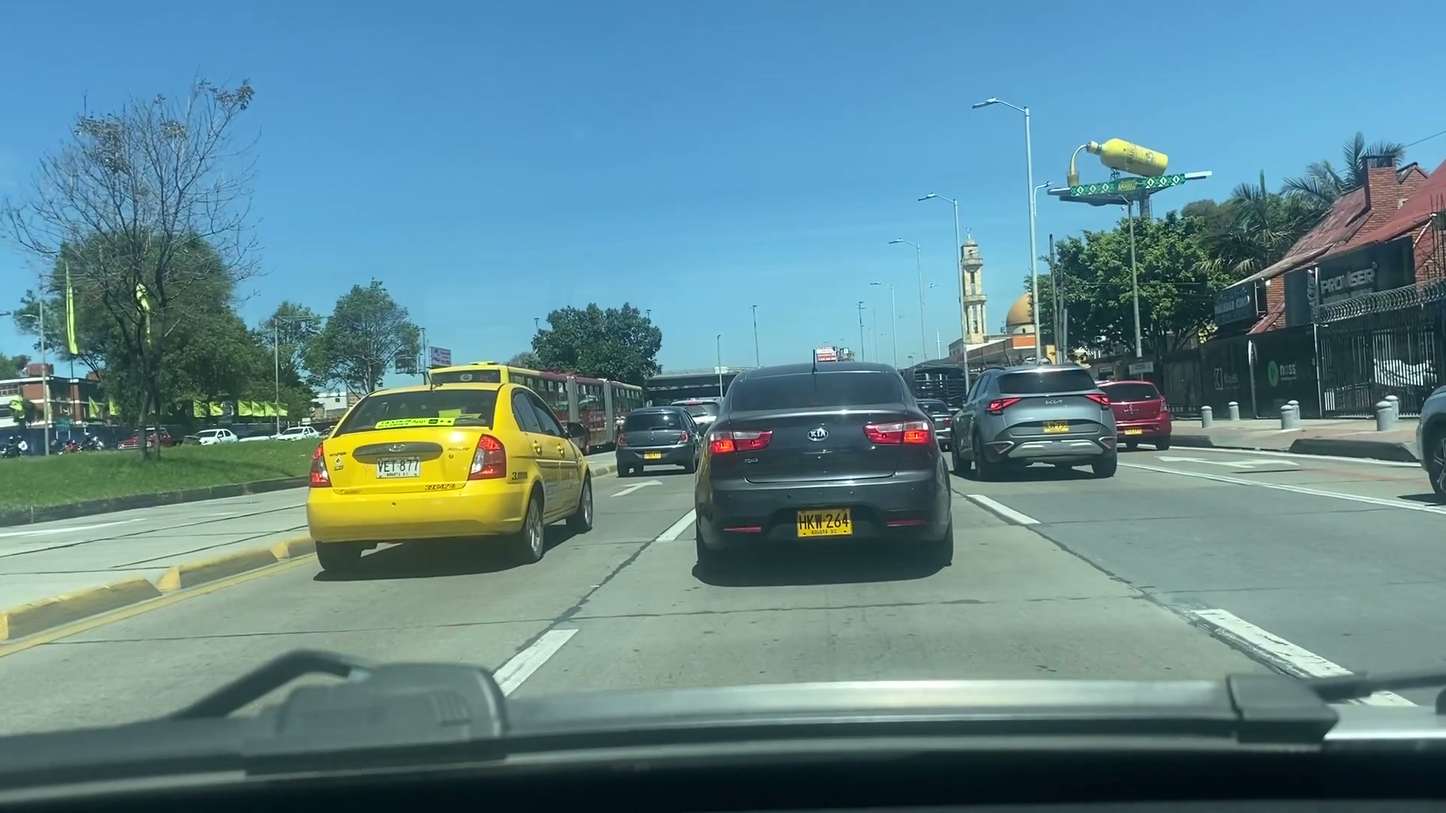car: (306, 381, 598, 570), (695, 361, 953, 564), (949, 363, 1114, 476), (1091, 379, 1174, 453), (614, 406, 704, 470), (1402, 372, 1446, 499), (193, 420, 239, 449)
